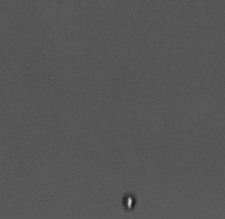Living Cell: (121, 192, 138, 212)
